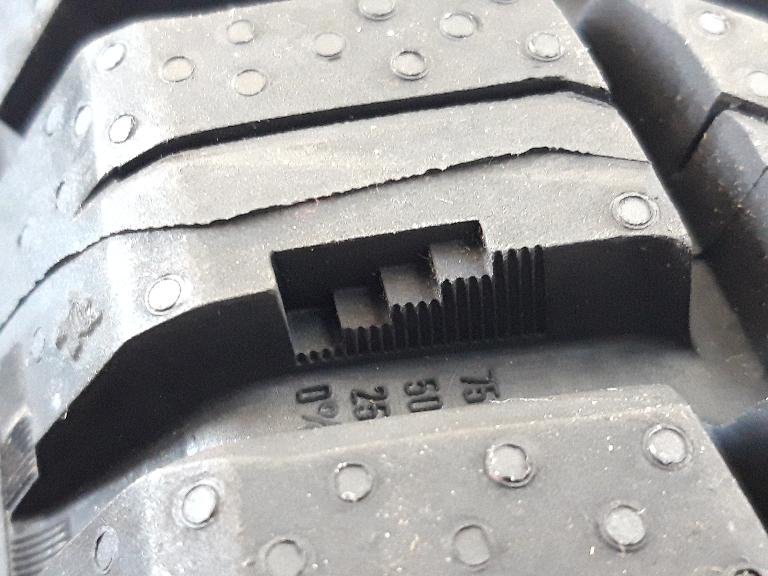temoin:100: (260, 213, 558, 383)
